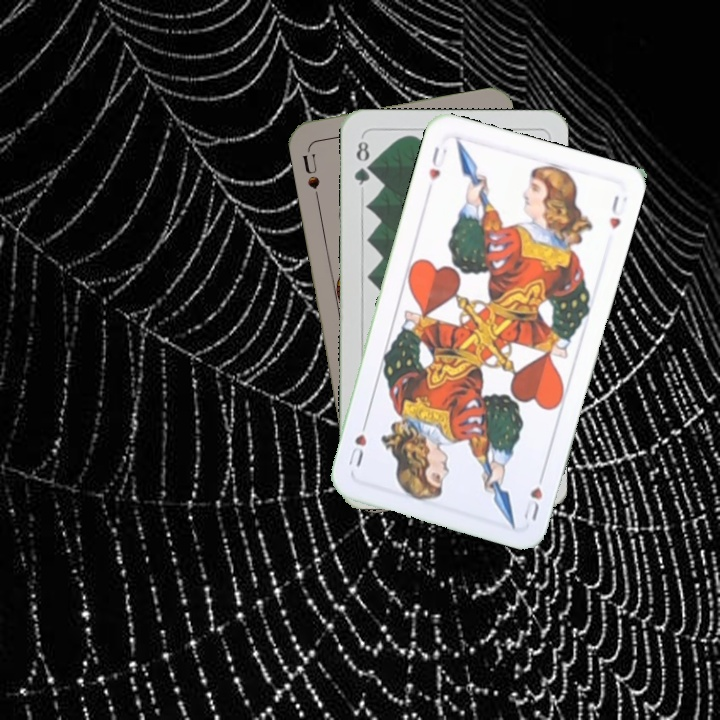G8: (350, 137, 374, 188)
HU: (518, 467, 547, 523), (425, 142, 450, 183)
SU: (298, 150, 322, 203)
